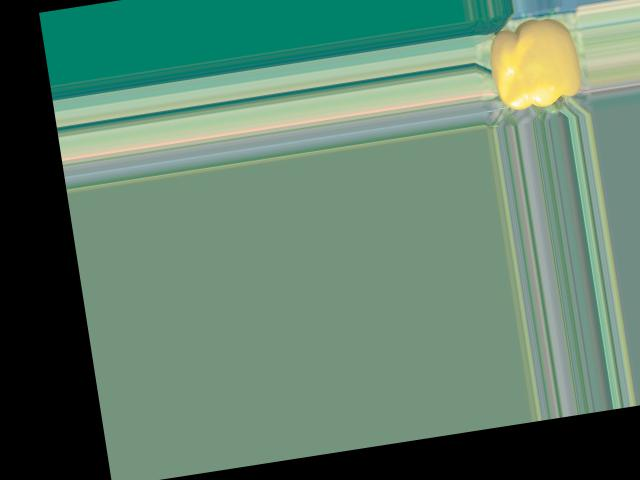bell_pepper: (477, 12, 591, 122)
